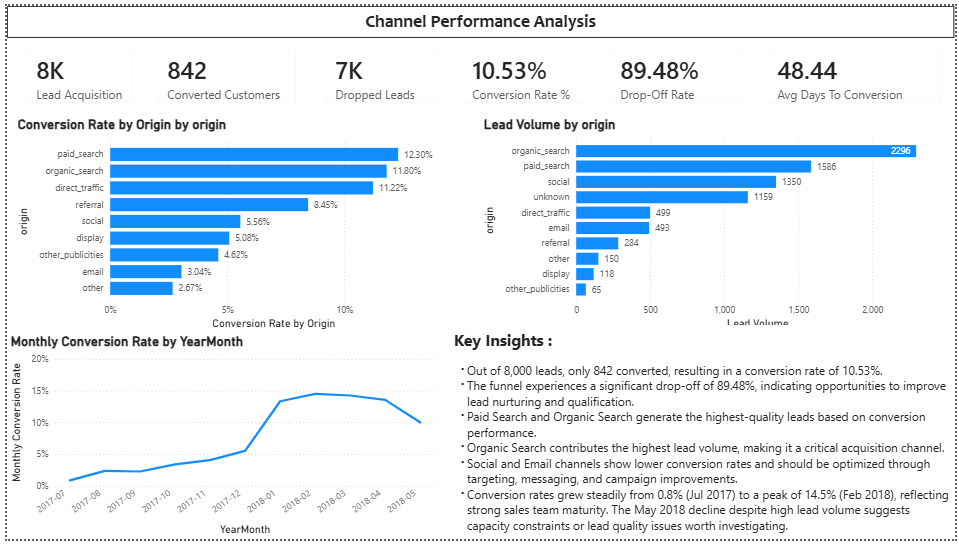

What the dashboard file says about the page in this screenshot:
{"tool":"powerbi","page":{"name":"Channel Performance Analysis","canvas":[1280,720],"ordinal":1},"visuals":[{"type":"cardVisual","fields":{"Data":["olist_funnel_cleaned.Total Leads"]},"box":[9.5,43.2,177,105.4],"z":0},{"type":"cardVisual","fields":{"Data":["olist_funnel_cleaned.Conversion Rate %"]},"box":[598.6,43.2,200,105.4],"z":1000},{"type":"cardVisual","fields":{"Data":["olist_funnel_cleaned.Converted Leads"]},"box":[186.5,43.2,221.6,105.4],"z":2000},{"type":"cardVisual","fields":{"Data":["olist_funnel_cleaned.Dropped Leads"]},"box":[413.5,43.2,185.1,105.4],"z":3000},{"type":"cardVisual","fields":{"Data":["olist_funnel_cleaned.Drop-Off %"]},"box":[798.6,43.2,212.2,105.4],"z":4000},{"type":"clusteredBarChart","fields":{"Category":["olist_funnel_cleaned.origin"],"Y":["olist_funnel_cleaned.Conversion Rate by Origin"]},"box":[9.5,148.6,589.2,293.2],"z":5000},{"type":"cardVisual","fields":{"Data":["olist_funnel_cleaned.Avg Days To Conversion"]},"box":[1010.8,43.2,268.9,105.4],"z":6000},{"type":"clusteredBarChart","fields":{"Category":["olist_funnel_cleaned.origin"],"Y":["CountNonNull(olist_funnel_cleaned.mql_id)"]},"box":[639.2,148.6,640.5,293.2],"z":7000},{"type":"textbox","box":[598.6,431.1,682.4,289.2],"z":8000},{"type":"lineChart","fields":{"Y":["Table.Monthly Conversion Rate"],"Category":["olist_funnel_cleaned.YearMonth"]},"box":[0,441.9,582.4,278.4],"z":9000},{"type":"textbox","box":[0,0,1279.7,43.2],"z":10000}]}

Visuals, with their boxes in screenshot pixels (x1, y1, x2, y2), scaled from the page's 1280x720 canvas onto the 959x544 screenshot:
cardVisual - olist_funnel_cleaned.Total Leads: 7, 33, 140, 112
cardVisual - olist_funnel_cleaned.Conversion Rate %: 448, 33, 598, 112
cardVisual - olist_funnel_cleaned.Converted Leads: 140, 33, 306, 112
cardVisual - olist_funnel_cleaned.Dropped Leads: 310, 33, 448, 112
cardVisual - olist_funnel_cleaned.Drop-Off %: 598, 33, 757, 112
clusteredBarChart - olist_funnel_cleaned.origin x olist_funnel_cleaned.Conversion Rate by Origin: 7, 112, 449, 334
cardVisual - olist_funnel_cleaned.Avg Days To Conversion: 757, 33, 958, 112
clusteredBarChart - olist_funnel_cleaned.origin x CountNonNull(olist_funnel_cleaned.mql_id): 479, 112, 958, 334
textbox: 448, 326, 958, 543
lineChart - Table.Monthly Conversion Rate x olist_funnel_cleaned.YearMonth: 0, 334, 436, 543
textbox: 0, 0, 958, 33
